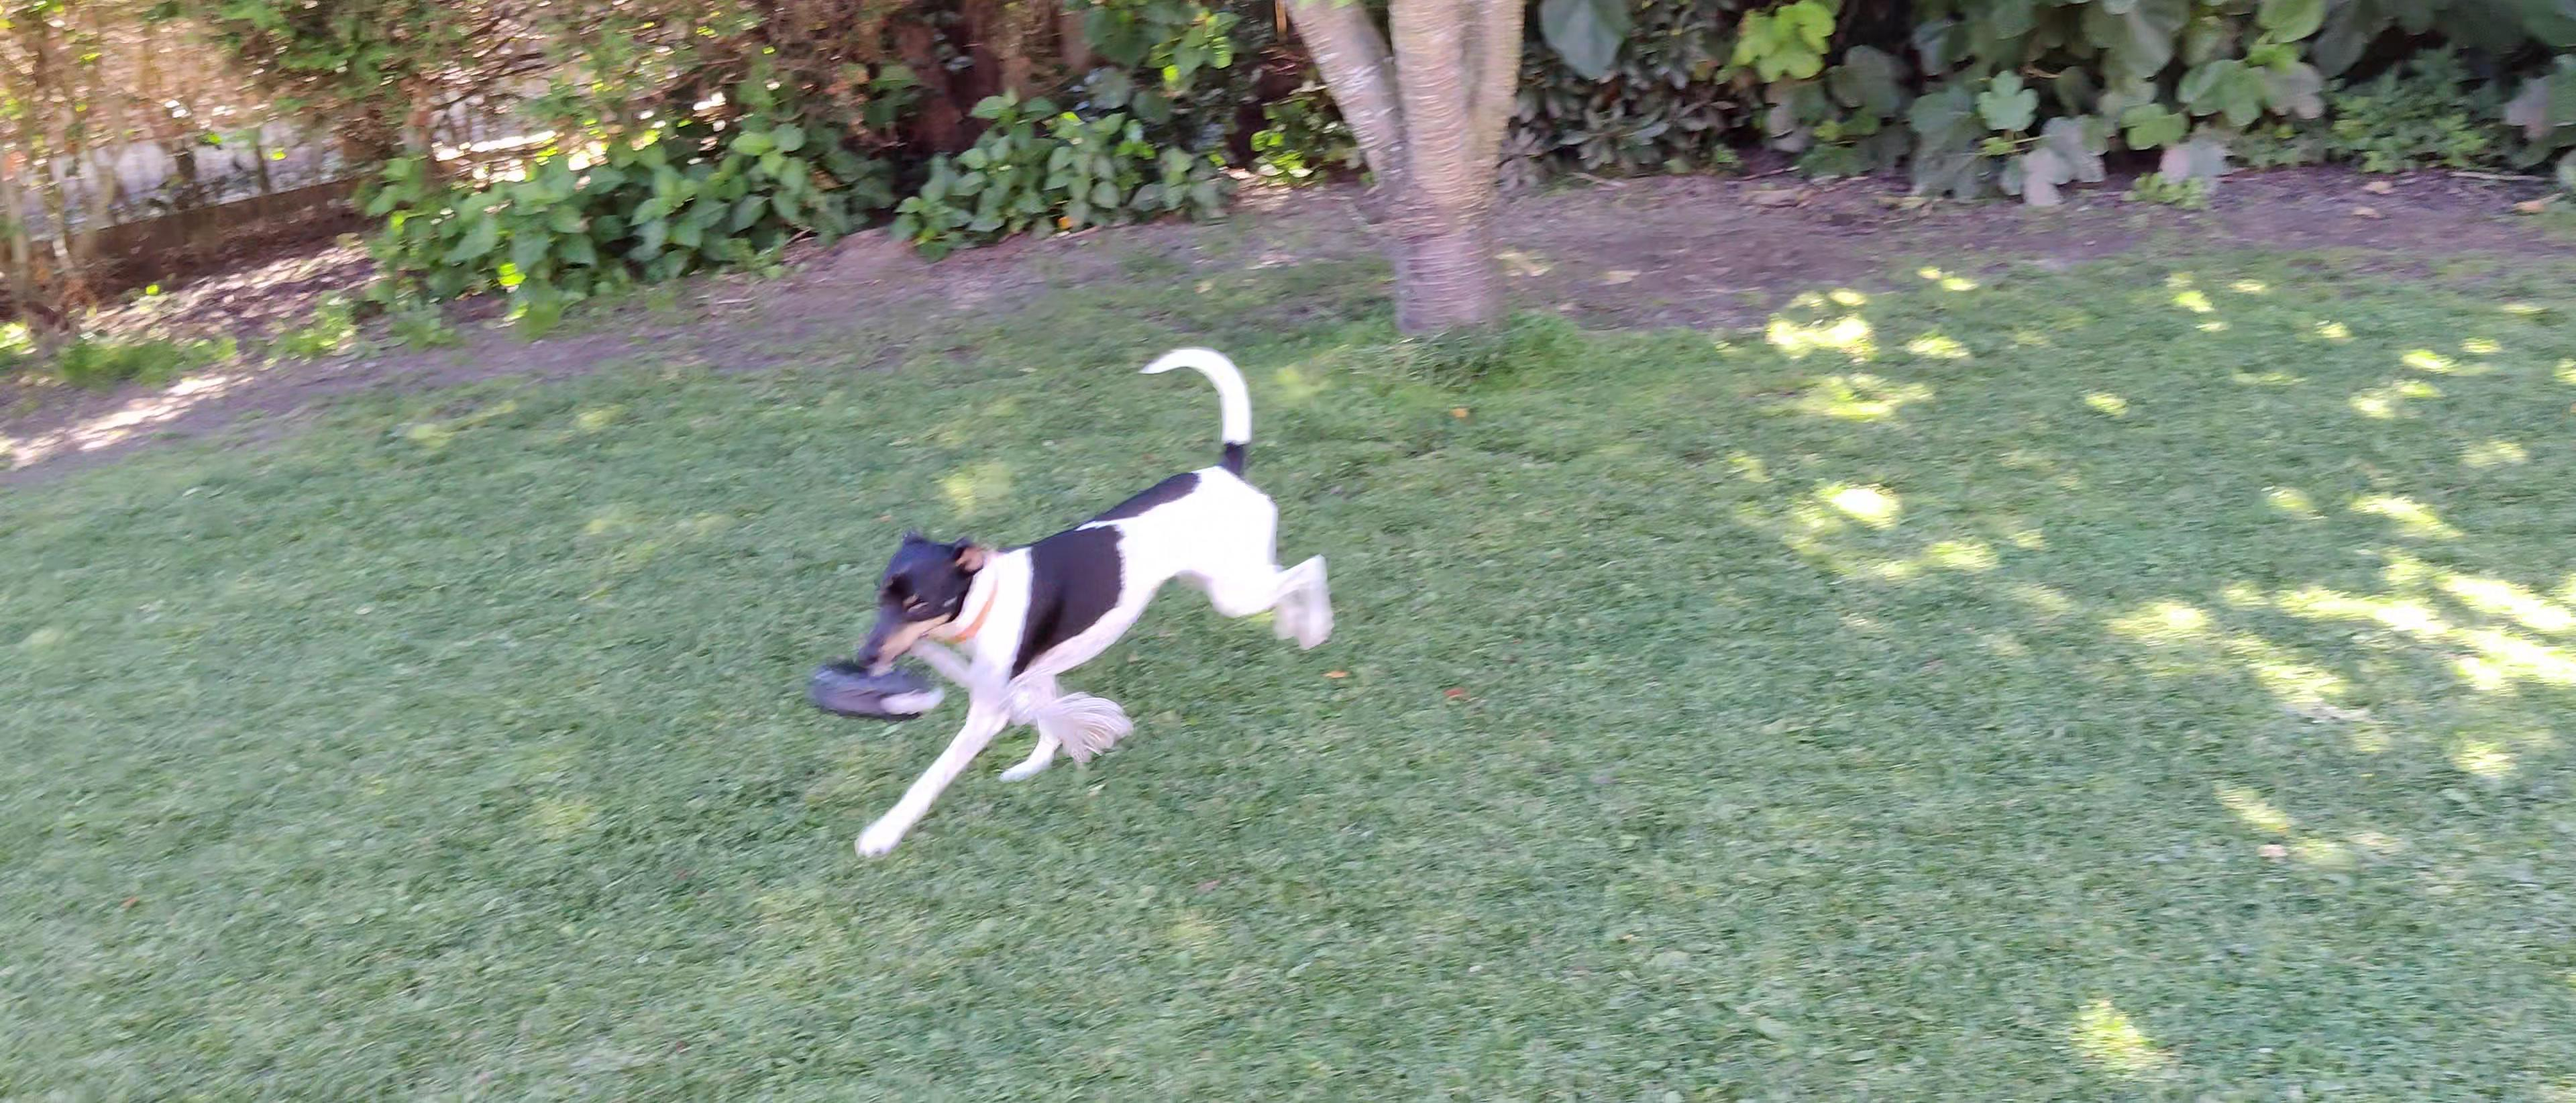Dog: (821, 335, 1350, 860)
